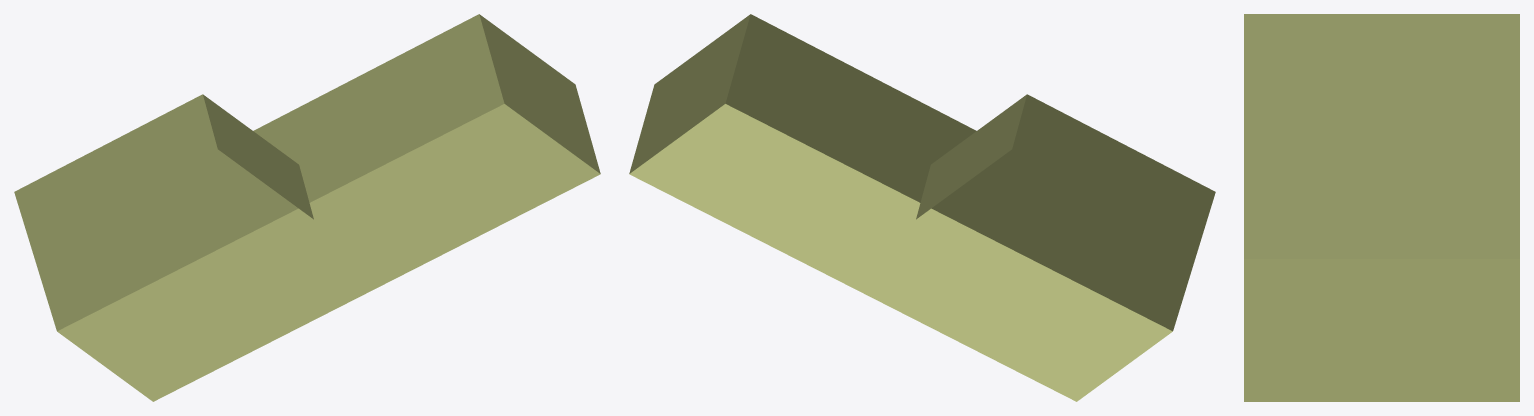
The picture shows the model from 3 angles, left to right: view 1: azimuth 30°, elevation 25°; view 2: azimuth 150°, elevation 25°; view 3: azimuth 270°, elevation 25°; orthographic projection. The views are drawn at different scales.
Visible parts, largest first — view 1: 0_1_0_2_0_1_3_3_0; view 2: 0_1_0_2_0_1_3_3_0; view 3: 0_1_0_2_0_1_3_3_0.
Part boxes in pixels (x1,y1,x2,y2): 0_1_0_2_0_1_3_3_0: [14, 14, 600, 401]; 0_1_0_2_0_1_3_3_0: [629, 14, 1215, 401]; 0_1_0_2_0_1_3_3_0: [1244, 14, 1519, 401].
Bounding box in the file's own units: 17.64 × 7.37 × 6.
